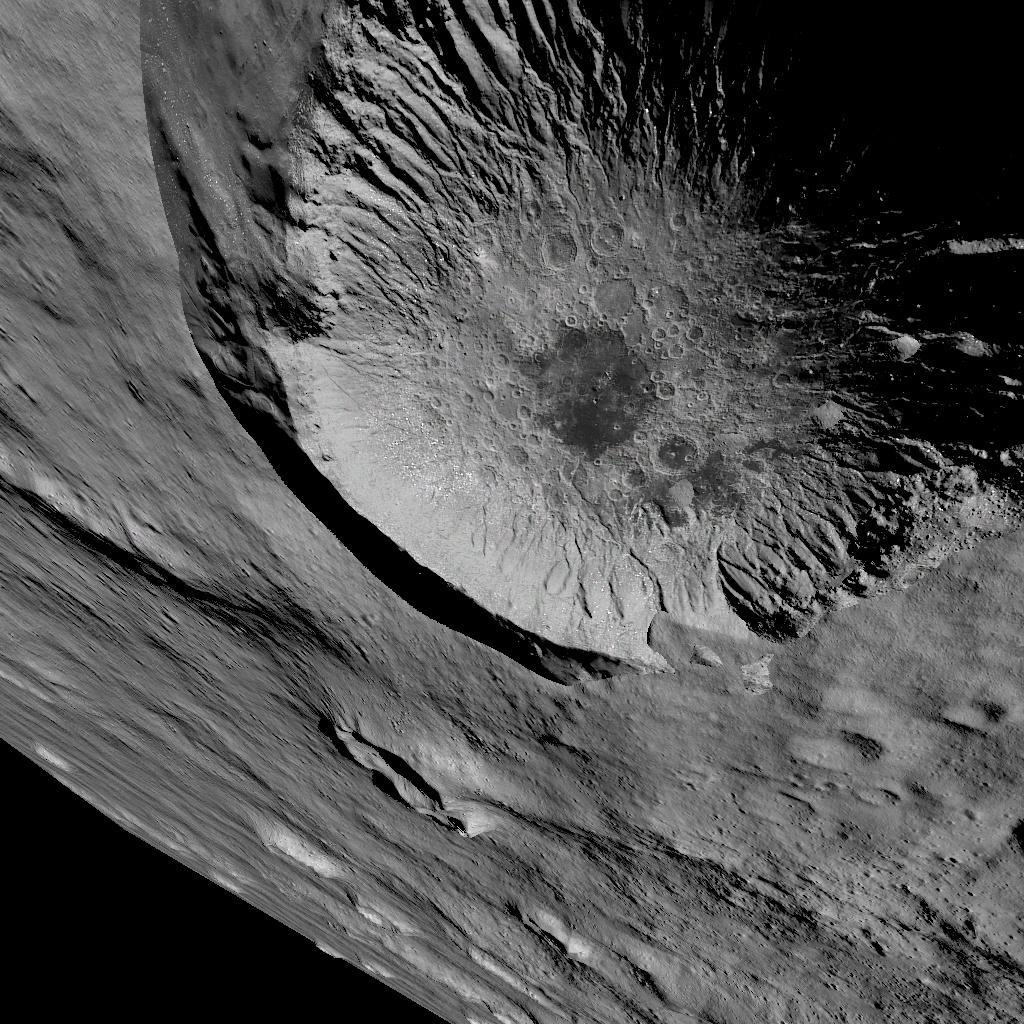Crater: (135, 0, 1024, 686), (307, 706, 477, 834)
Plan surface: (567, 708, 1024, 1024)
